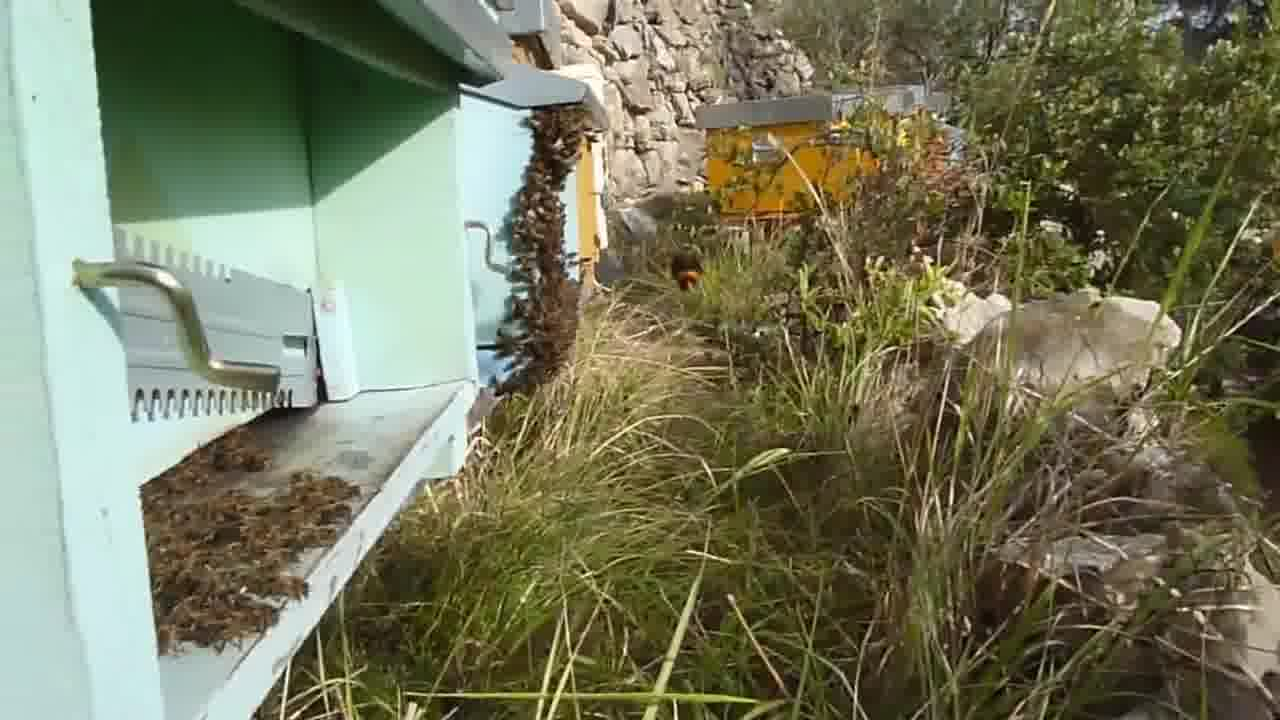bee: (149, 476, 369, 561), (156, 562, 311, 641), (513, 181, 574, 264), (527, 107, 589, 177), (493, 264, 566, 323), (493, 323, 557, 386), (199, 429, 278, 471)
hornet: (657, 242, 718, 304)
